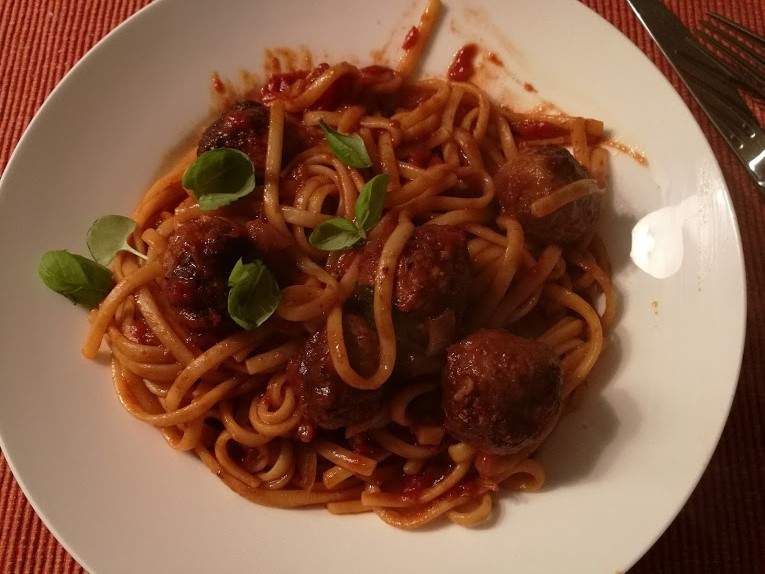meatballs: (444, 333, 552, 445), (363, 229, 459, 309), (502, 148, 590, 235), (156, 220, 244, 303), (300, 326, 378, 419), (189, 103, 276, 177)
plain spaghetti: (59, 327, 323, 512), (255, 71, 485, 226)
